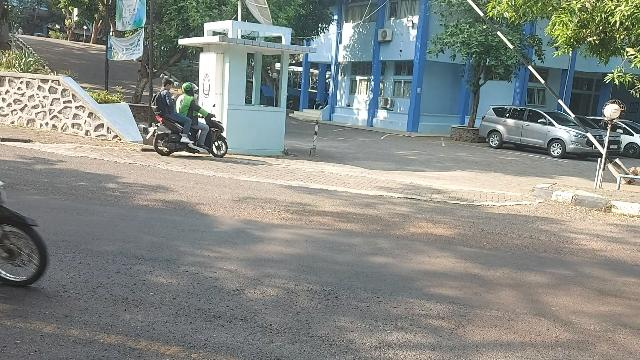helm: (183, 83, 199, 97)
motor: (148, 106, 229, 159)
non-helm: (163, 79, 173, 92)
